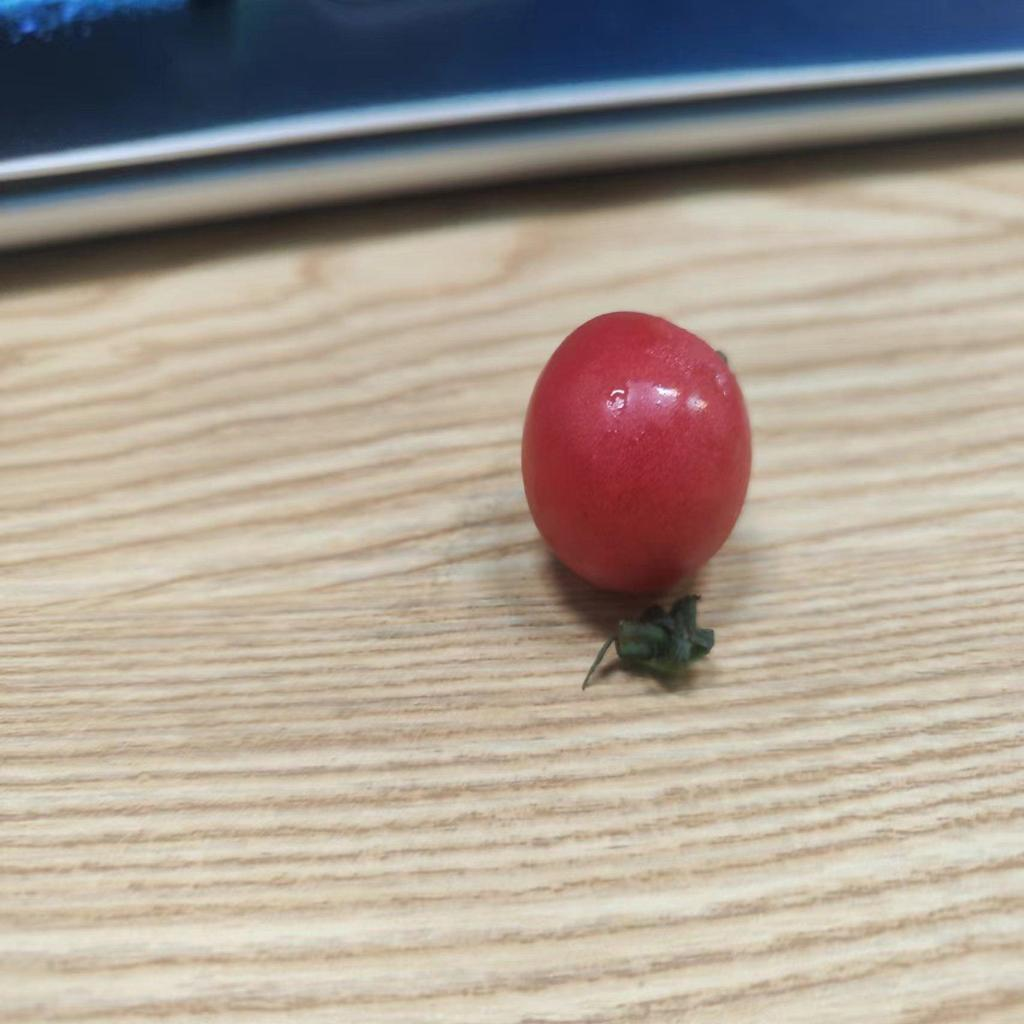tomato: (518, 305, 767, 656)
